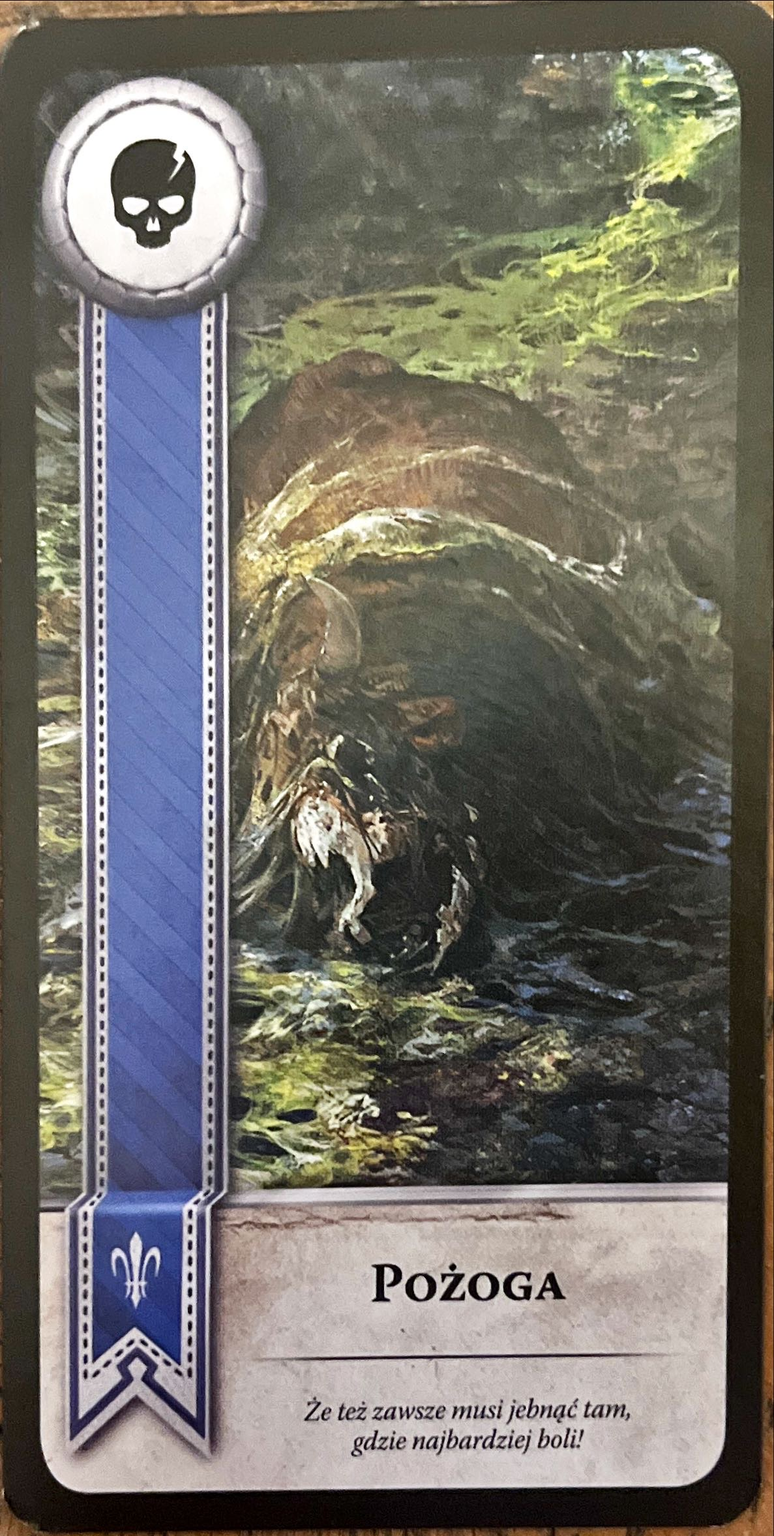pozoga: (45, 75, 266, 315)
